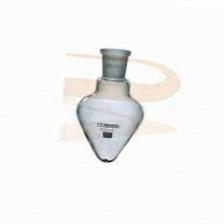Pear shaped flask: (69, 44, 147, 161)
